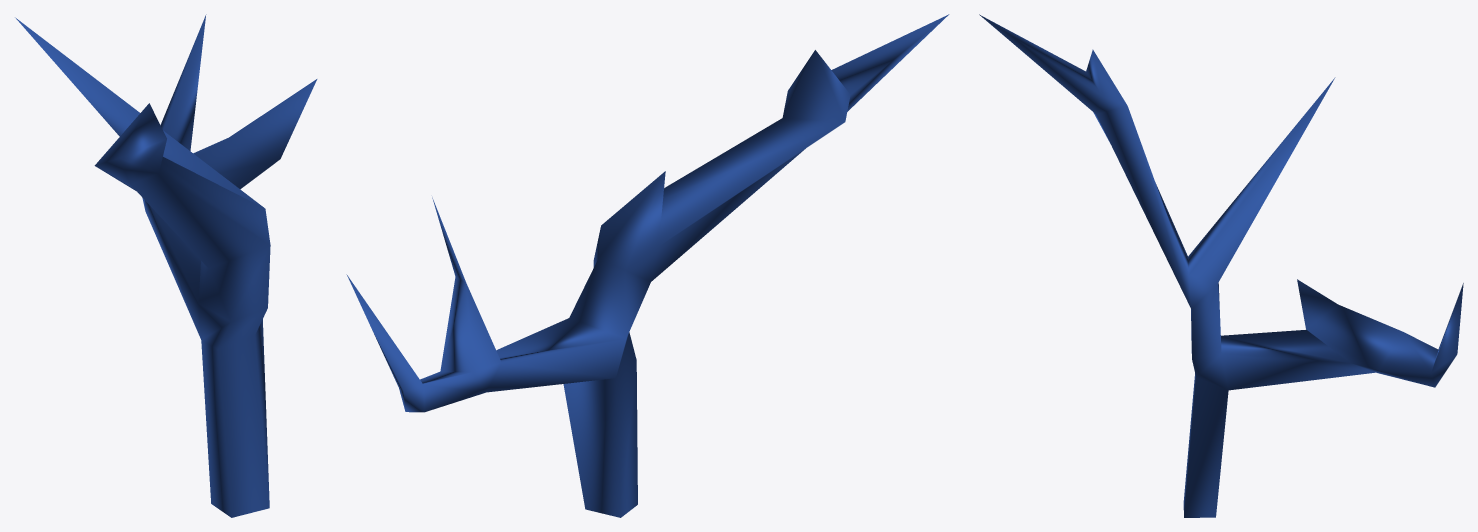
Rendered from seaGrassSmallBlue.fbx.
3 views of the same model, side by side, from view 1: azimuth 30°, elevation 25°; view 2: azimuth 150°, elevation 25°; view 3: azimuth 270°, elevation 25° (orthographic). The views are drawn at different scales.
Parts seen in each view (by area): view 1: seaGrassSmallYBlueObject; view 2: seaGrassSmallYBlueObject; view 3: seaGrassSmallYBlueObject.
Boxes of the visible parts, left/top/right/bottom form: seaGrassSmallYBlueObject: left=15, top=14, right=317, bottom=517; seaGrassSmallYBlueObject: left=346, top=14, right=949, bottom=517; seaGrassSmallYBlueObject: left=979, top=14, right=1463, bottom=517.
Size of the model in its own units: 0.156 by 0.1997 by 0.2176.
